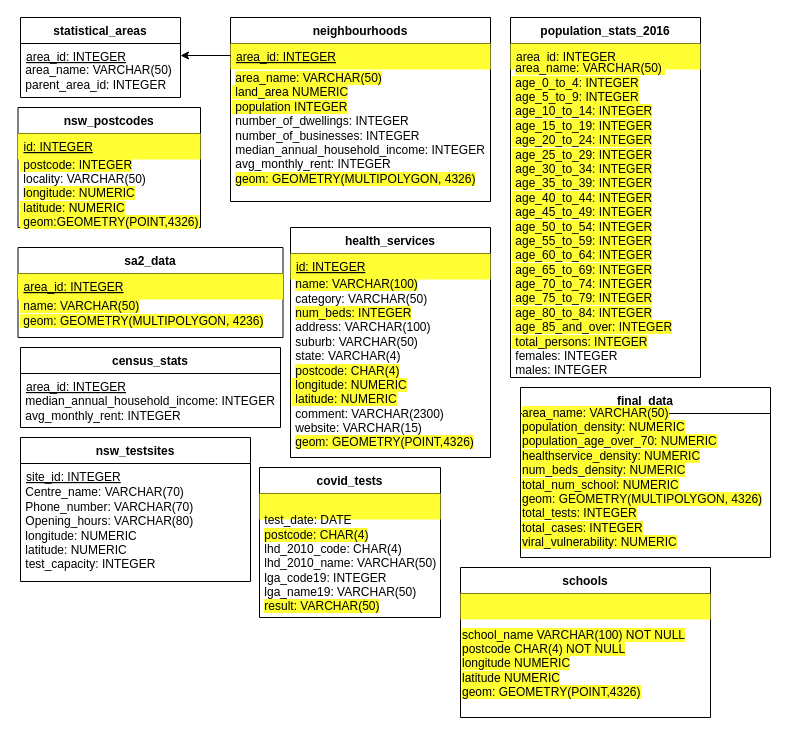
The diagram is 788 pixels wide and 735 high, and some of its shapes have lost their labels. Here are the shapes that lost their labels. From the top down, the centre of each, then its label:
At (349,506): "test_id: INTEGER".
At (585,606): "school_id SERIAL PRIMARY KEY".
